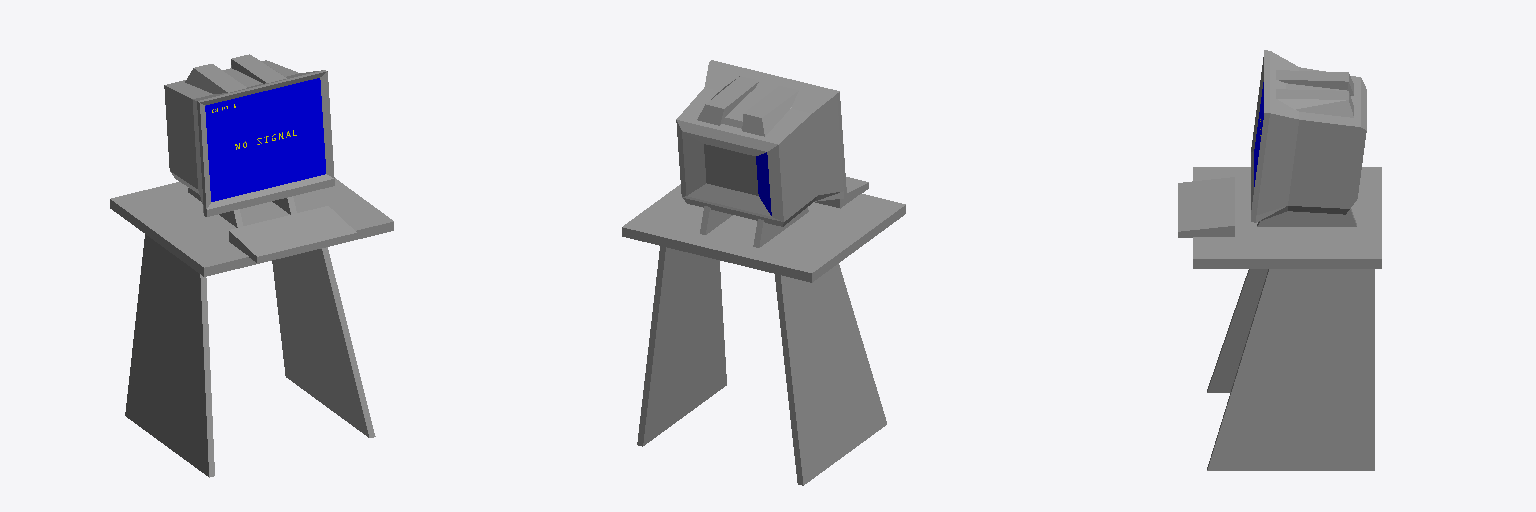
The picture shows the model from 3 angles: view 1: azimuth 30°, elevation 25°; view 2: azimuth 150°, elevation 25°; view 3: azimuth 270°, elevation 25°; orthographic projection.
Visible parts, largest first — view 1: Cube_Chassis, Cube.001_Phosphor; view 2: Cube_Chassis; view 3: Cube_Chassis.
Boxes of the visible parts, <box> form: Cube_Chassis: <box>110,54,393,477</box>; Cube.001_Phosphor: <box>205,78,325,201</box>; Cube_Chassis: <box>622,60,905,485</box>; Cube_Chassis: <box>1178,50,1381,470</box>.
Size of the model in its own units: 0.64 by 1.12 by 0.5957.
Materials: 3 (1 with a texture image).